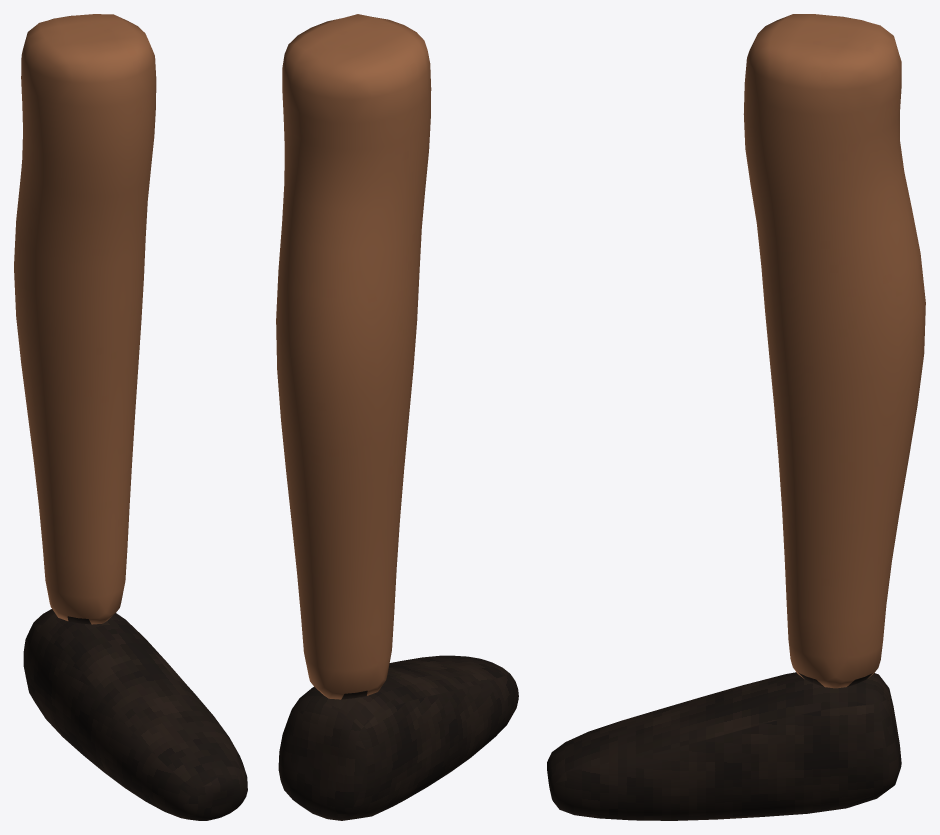
File: piernaizq.obj
3 renders of one model, left to right at view 1: azimuth 30°, elevation 25°; view 2: azimuth 150°, elevation 25°; view 3: azimuth 270°, elevation 25°, orthographic. The views are drawn at different scales.
Parts seen in each view (by area): view 1: PiernaIzq; view 2: PiernaIzq; view 3: PiernaIzq.
Boxes of the visible parts, left/top/right/bottom form: PiernaIzq: left=14, top=14, right=247, bottom=820; PiernaIzq: left=276, top=14, right=518, bottom=820; PiernaIzq: left=547, top=14, right=925, bottom=820.
Size of the model in its own units: 0.0897 by 0.5267 by 0.2342.
2 materials, 2 textured.
